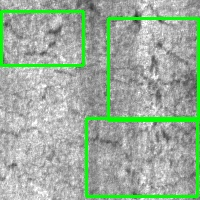crazing: (108, 18, 198, 120), (86, 118, 197, 196), (1, 11, 83, 65)
